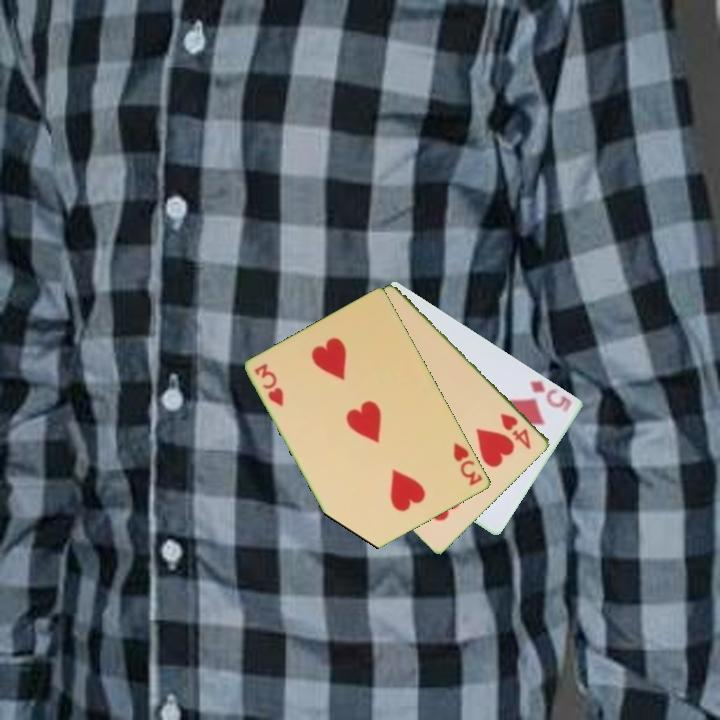3h: (450, 439, 486, 489), (251, 360, 287, 409)
4h: (497, 409, 534, 452)
5d: (526, 377, 575, 415)
